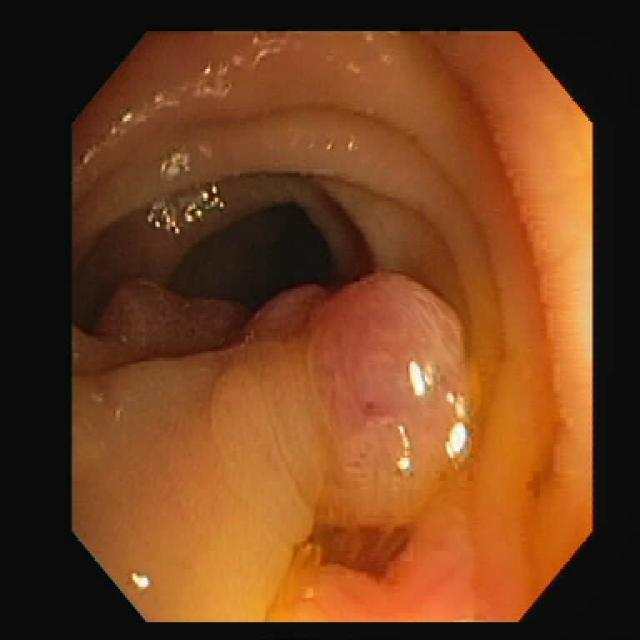tumor: (210, 273, 473, 529), (245, 284, 327, 336)
